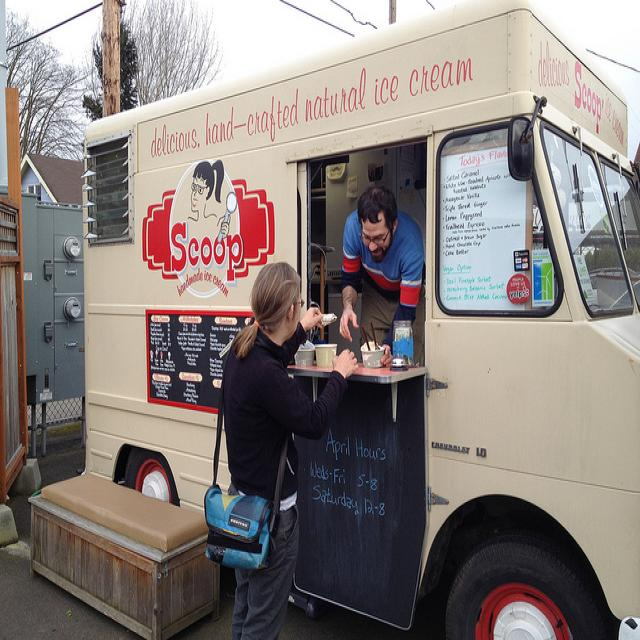Vehicle: (82, 0, 639, 633)
